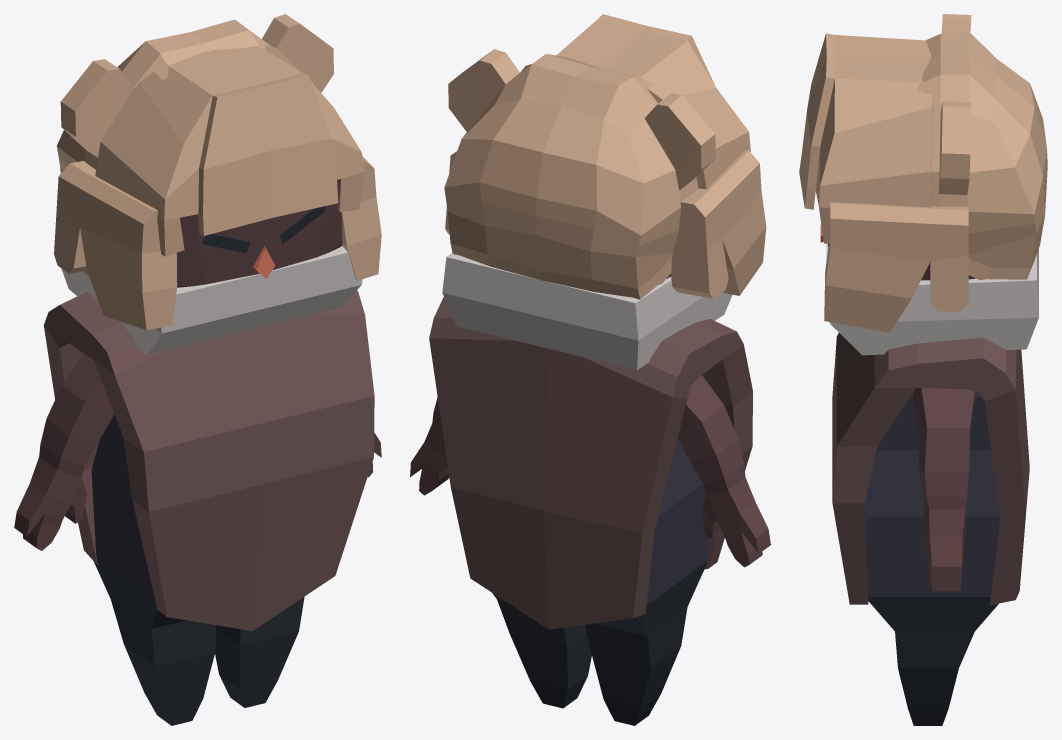
File: Child 1.fbx
3 renders of one model, left to right at view 1: azimuth 30°, elevation 25°; view 2: azimuth 150°, elevation 25°; view 3: azimuth 270°, elevation 25°, orthographic. The views are drawn at different scales.
Parts seen in each view (by area): view 1: Manto.002; view 2: Manto.002; view 3: Manto.002.
Boxes of the visible parts, x1,y1,x2,y2 form: Manto.002: [14, 14, 381, 725]; Manto.002: [410, 14, 770, 725]; Manto.002: [799, 14, 1047, 725].
Size of the model in its own units: 99.61 by 178 by 61.69.
